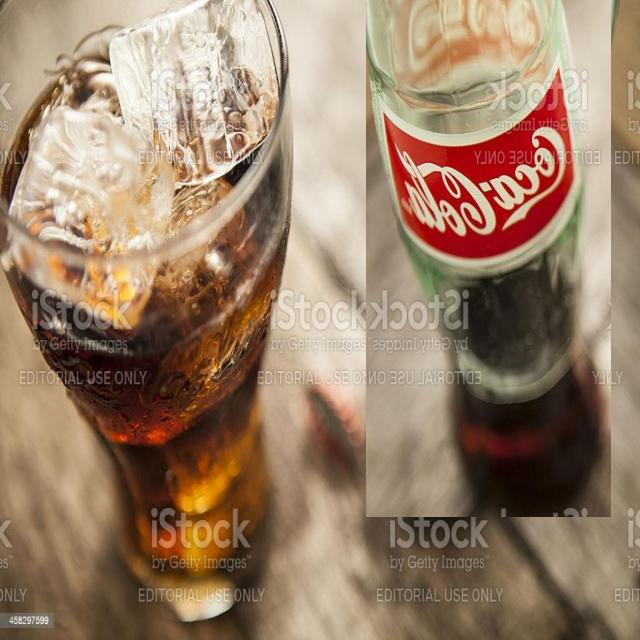coca-cola: (366, 0, 611, 517)
